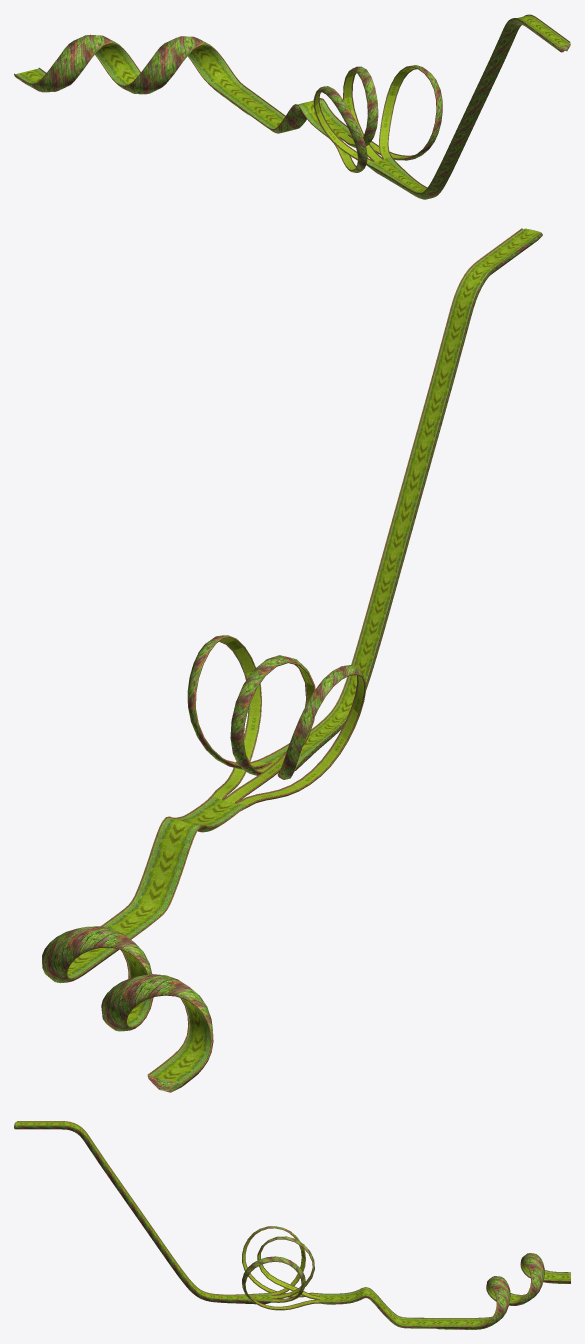
File: Frog Forest 5.fbx
The picture shows the model from 3 angles, top to bottom: view 1: azimuth 30°, elevation 25°; view 2: azimuth 150°, elevation 25°; view 3: azimuth 270°, elevation 25°; orthographic projection. The views are drawn at different scales.
Parts seen in each view (by area): view 1: Object_2.005, Object_2.004; view 2: Object_2.004, Object_2.005; view 3: Object_2.005, Object_2.004.
Part boxes in pixels (left/top/right/bottom): Object_2.005: left=14, top=14, right=570, bottom=199; Object_2.004: left=16, top=15, right=569, bottom=192; Object_2.004: left=67, top=228, right=541, bottom=1083; Object_2.005: left=42, top=228, right=542, bottom=1092; Object_2.005: left=14, top=1121, right=570, bottom=1329; Object_2.004: left=15, top=1121, right=570, bottom=1326.
Bounding box in the file's own units: 148086 × 211406 × 521062.
